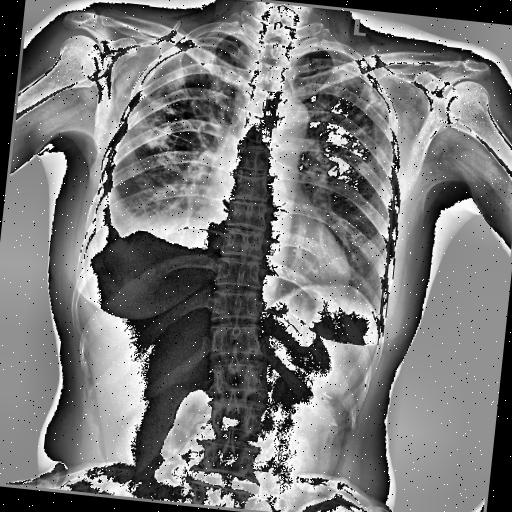10- Pleural effusion: (86, 166, 210, 290), (86, 194, 198, 292), (78, 190, 142, 276)
13- Pulmonary fibrosis: (124, 36, 244, 160), (134, 40, 240, 156), (298, 58, 397, 182), (123, 45, 230, 159), (306, 64, 394, 178), (307, 57, 398, 165)
6- Infiltration: (134, 40, 240, 156), (306, 64, 394, 178)
7- Lung Opacity: (112, 182, 220, 247), (98, 210, 206, 258)
